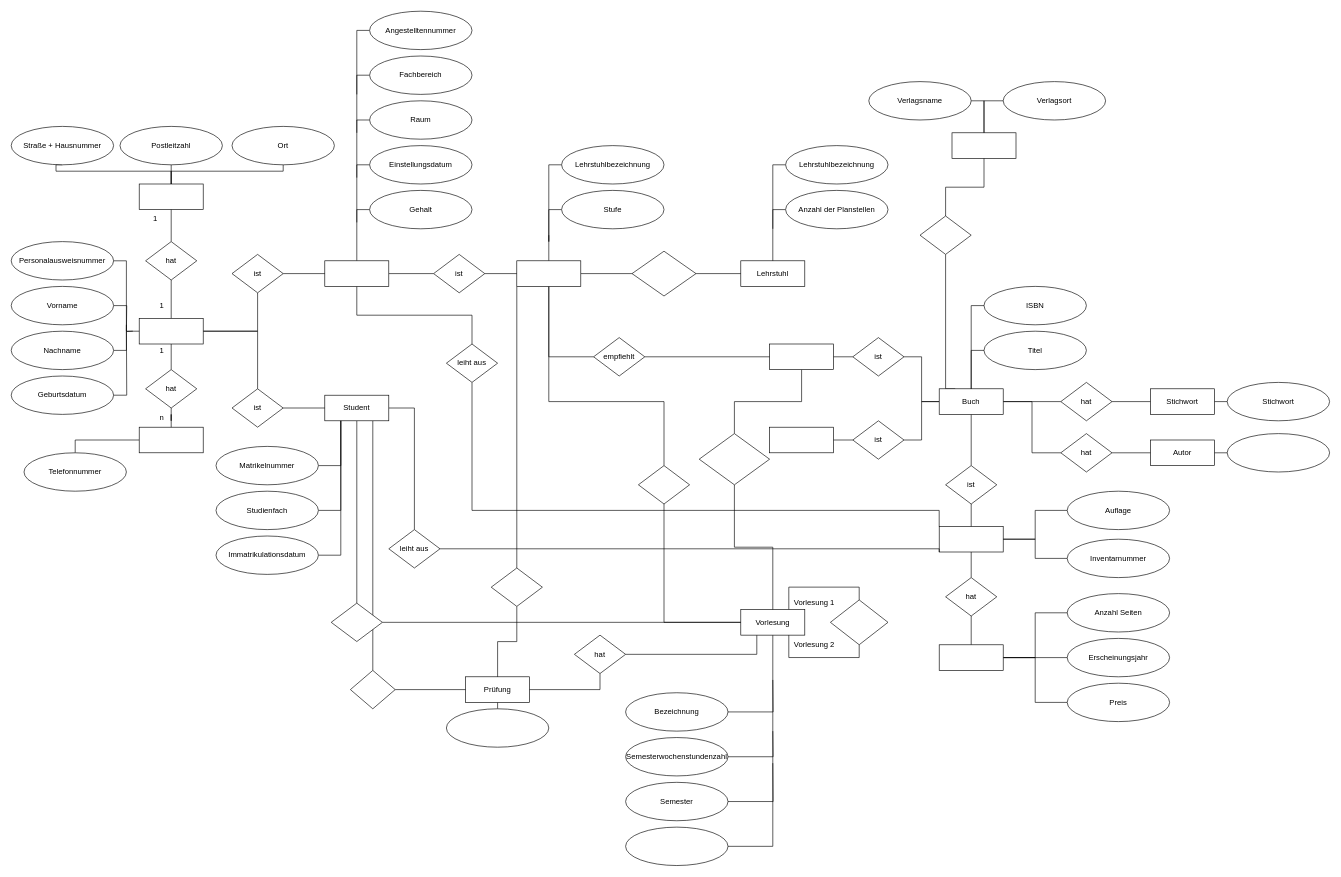
The diagram is 1341 pixels wide and 877 high, and some of its shapes have lost their labels. Here are the shapes that lost their labels. From the top down, the box of each, then its label:
(951, 132, 1016, 158): Verlag
(139, 183, 203, 210): Adresse
(919, 215, 971, 254): erscheint bei
(324, 260, 389, 286): Mitarbeiter
(516, 260, 581, 286): Professor
(631, 251, 696, 296): ist Inhaber von
(139, 318, 203, 344): Person
(769, 343, 834, 370): Lehrbuch
(139, 427, 203, 453): Telefon
(699, 433, 770, 485): ist Empfehlung für
(769, 427, 834, 453): Tagungsband
(1227, 433, 1330, 472): Autorname
(638, 465, 690, 504): liest
(939, 526, 1003, 552): Buch-Exemplar
(491, 567, 542, 606): benotet
(331, 602, 382, 642): hört
(830, 599, 888, 645): ist Voraussetzung für
(939, 644, 1003, 670): Buch-Version
(350, 670, 395, 709): macht
(446, 708, 549, 747): Note
(625, 826, 728, 866): Studiengang
